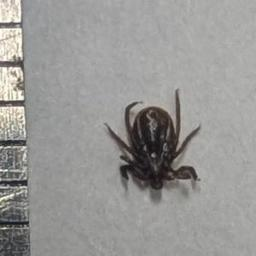Ixodes scapularis: (104, 88, 202, 189)
